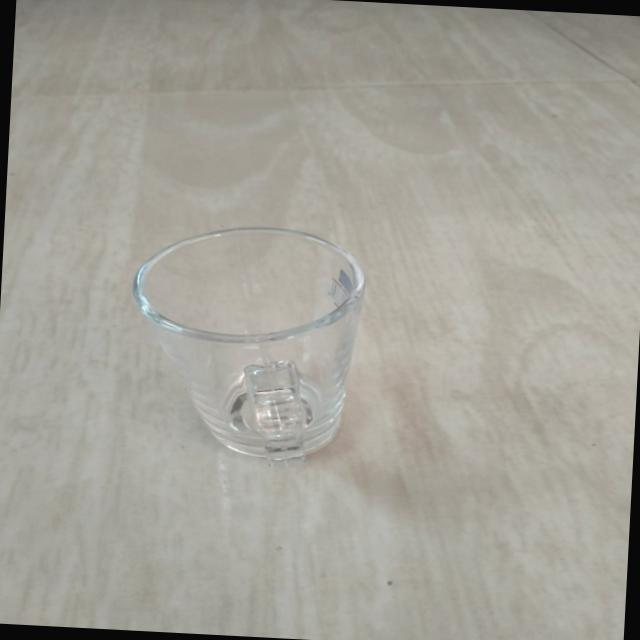glass-VX4N: (123, 220, 364, 466)
